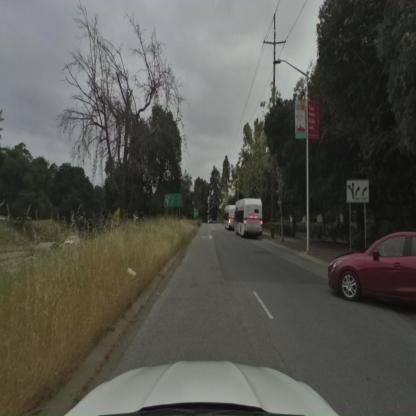bus: (229, 197, 263, 237)
car: (327, 230, 415, 309)
